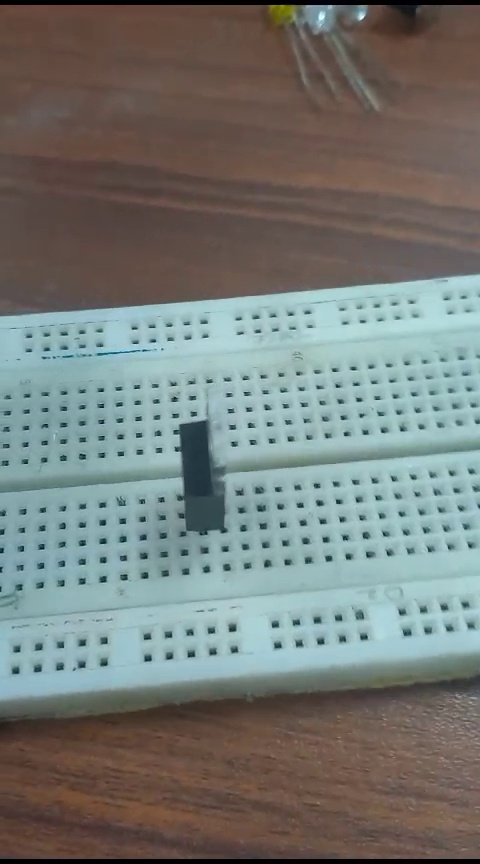voltage regulator: (157, 384, 233, 543)
